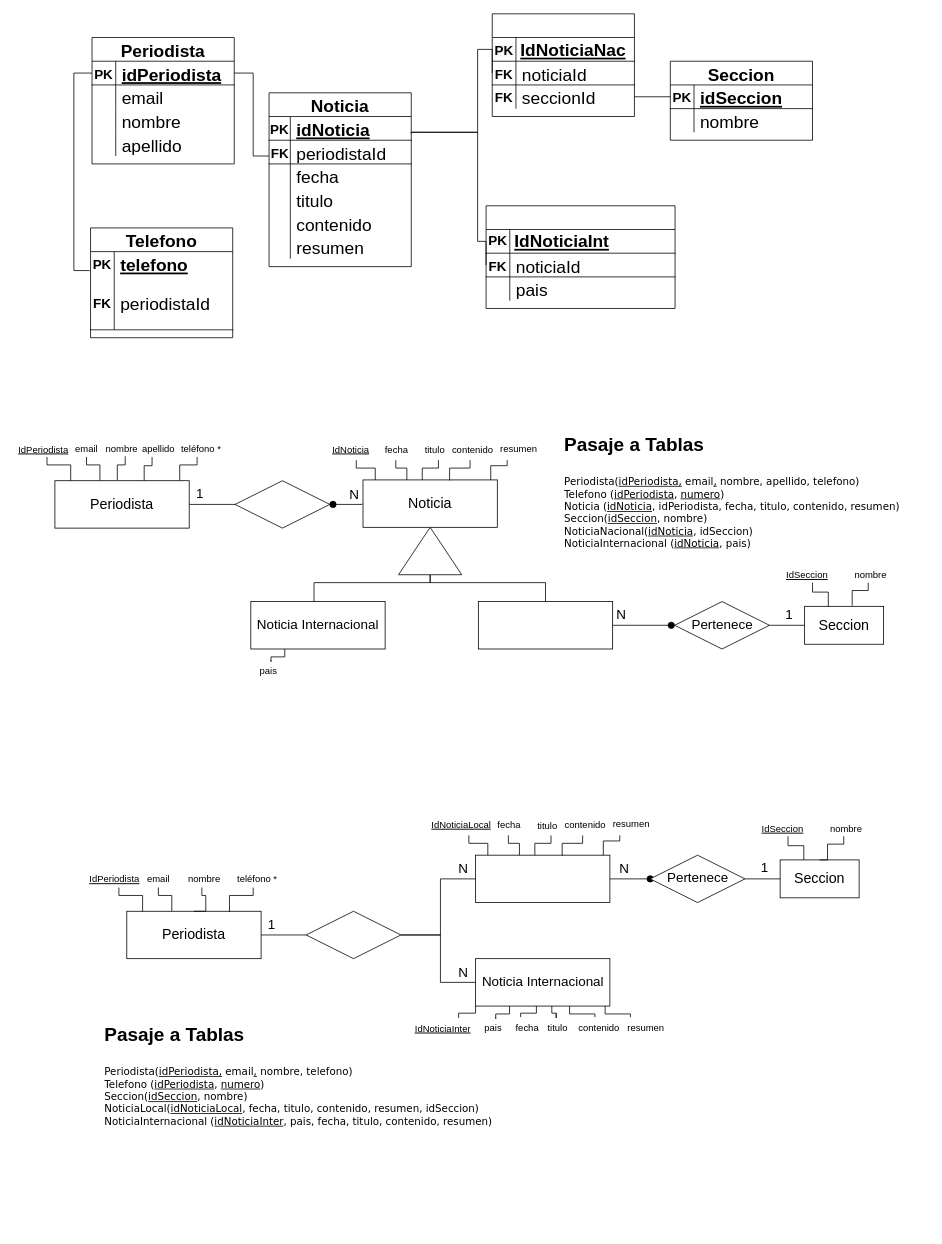
Image size: 942x1244. Some labels were removed from this diagram. The box of each missing label's shape, as (x1, y1, x2, y2) in pixels:
Escribe: (234, 480, 330, 528)
Noticia Local: (475, 854, 610, 903)
Noticia Nacional: (478, 601, 613, 649)
NoticiaInternacional: (485, 205, 675, 308)
NoticiaNacional: (491, 13, 634, 117)
Relationship: (305, 910, 401, 959)
